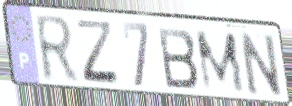7: (120, 19, 151, 92)
B: (156, 25, 201, 91)
M: (193, 31, 248, 95)
N: (237, 29, 285, 97)
R: (33, 12, 81, 86)
Z: (74, 18, 123, 89)
